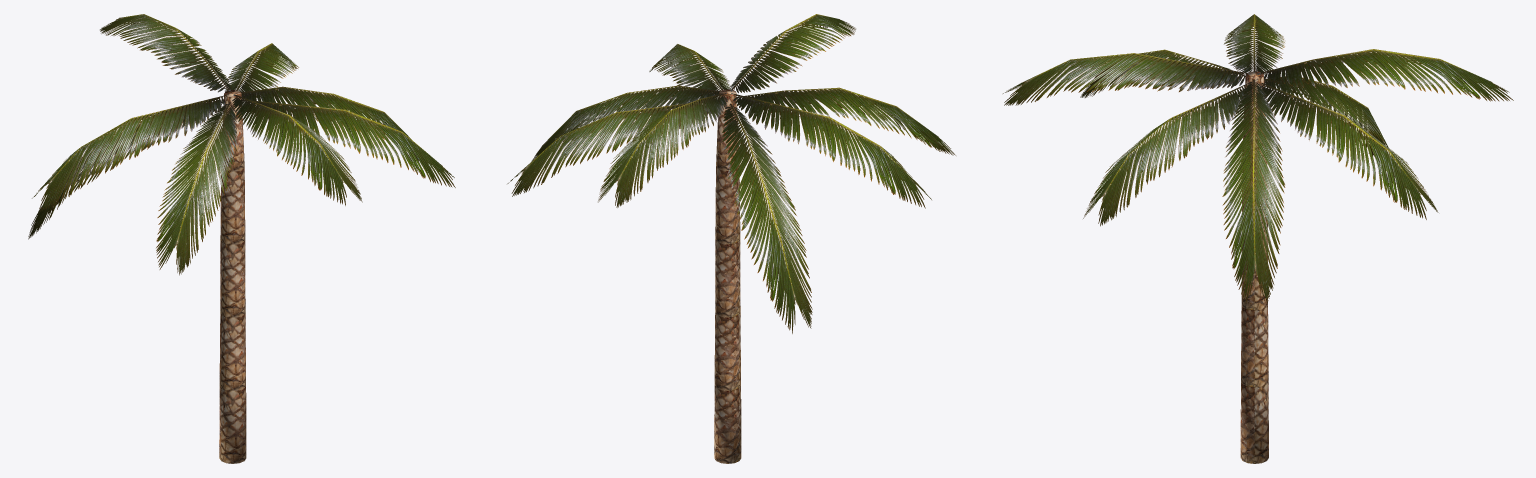
The model's file is Palm_Tree.fbx.
The picture shows the model from 3 angles, left to right: view 1: azimuth 30°, elevation 25°; view 2: azimuth 150°, elevation 25°; view 3: azimuth 270°, elevation 25°; orthographic projection. The views are drawn at different scales.
Visible parts, largest first — view 1: Palm_Tree_Trunk, Leaf, Leaf2, Leaf1, Leaf7, Leaf4, Leaf6, Leaf5, Leaf3; view 2: Leaf3, Palm_Tree_Trunk, Leaf2, Leaf4, Leaf5, Leaf, Leaf1, Leaf6, Leaf7; view 3: Leaf6, Palm_Tree_Trunk, Leaf5, Leaf7, Leaf4, Leaf1, Leaf2, Leaf3, Leaf.
Part boxes in pixels (box(x1,y1,x2,y2)): Palm_Tree_Trunk: box(219, 90, 246, 463); Leaf: box(156, 102, 237, 275); Leaf2: box(32, 94, 228, 211); Leaf1: box(232, 94, 362, 205); Leaf7: box(239, 99, 455, 187); Leaf4: box(100, 14, 231, 92); Leaf6: box(241, 86, 431, 164); Leaf5: box(224, 43, 298, 99); Leaf3: box(28, 100, 222, 239); Leaf3: box(721, 103, 812, 333); Palm_Tree_Trunk: box(714, 89, 741, 463); Leaf2: box(731, 93, 931, 208); Leaf4: box(598, 93, 728, 207); Leaf5: box(507, 102, 711, 196); Leaf: box(737, 87, 955, 155); Leaf1: box(729, 14, 855, 93); Leaf6: box(527, 85, 719, 167); Leaf7: box(649, 44, 731, 98); Leaf6: box(1222, 76, 1285, 303); Palm_Tree_Trunk: box(1240, 71, 1268, 463); Leaf5: box(1260, 83, 1438, 219); Leaf7: box(1083, 83, 1251, 226); Leaf4: box(1257, 49, 1513, 101); Leaf1: box(1003, 53, 1250, 105); Leaf2: box(1224, 14, 1284, 74); Leaf3: box(1264, 76, 1396, 163); Leaf: box(1080, 49, 1245, 97).
Size of the model in its own units: 7.35 by 6.78 by 7.91.
2 materials, 2 textured.
